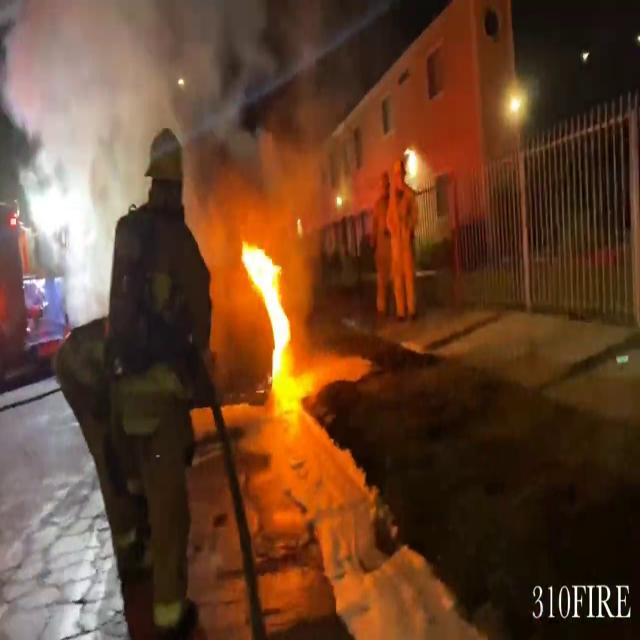Fire: (238, 231, 302, 401)
Smoke: (0, 0, 362, 266)
